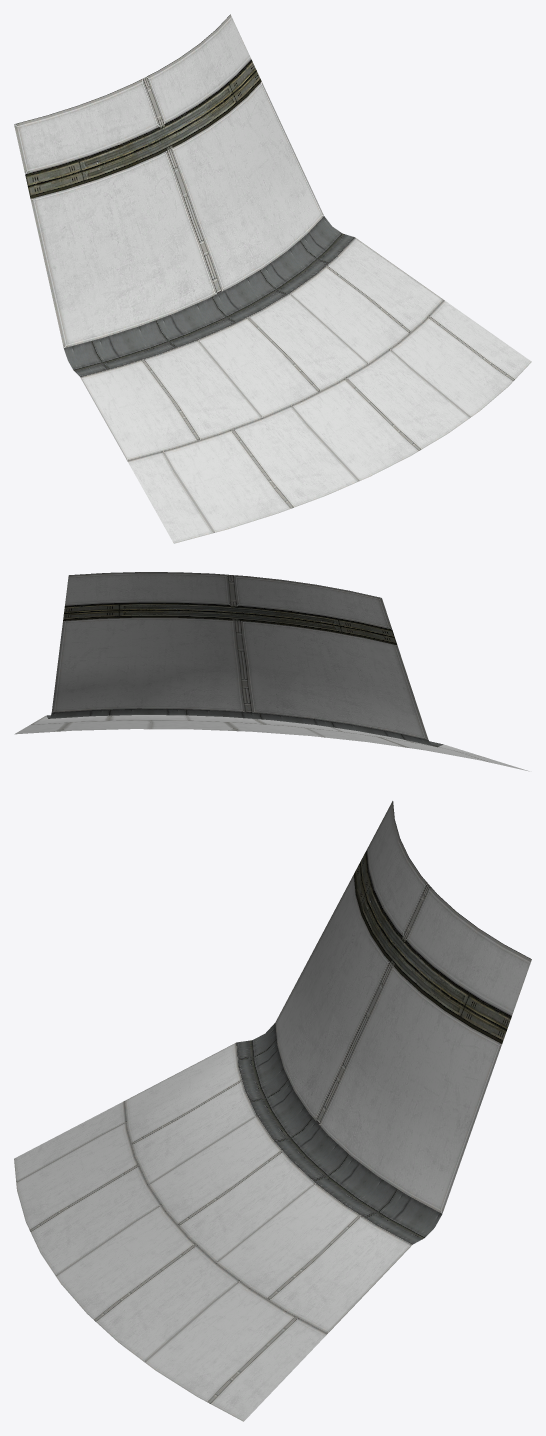
The model's file is Club_Shell_03.FBX.
3 renders of one model, top to bottom at view 1: azimuth 30°, elevation 25°; view 2: azimuth 150°, elevation 25°; view 3: azimuth 270°, elevation 25°, orthographic. The views are drawn at different scales.
Parts seen in each view (by area): view 1: Club_Shell_03; view 2: Club_Shell_03; view 3: Club_Shell_03.
Boxes of the visible parts, x1,y1,x2,y2 form: Club_Shell_03: (14, 14, 531, 543); Club_Shell_03: (14, 572, 529, 771); Club_Shell_03: (14, 801, 531, 1421).
Bounding box in the file's own units: 48.83 × 31.01 × 40.61.
